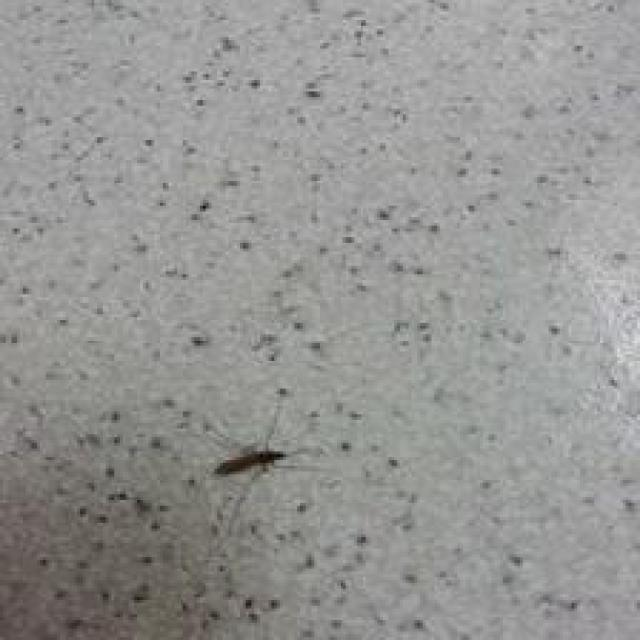Culex: (213, 446, 287, 477)
